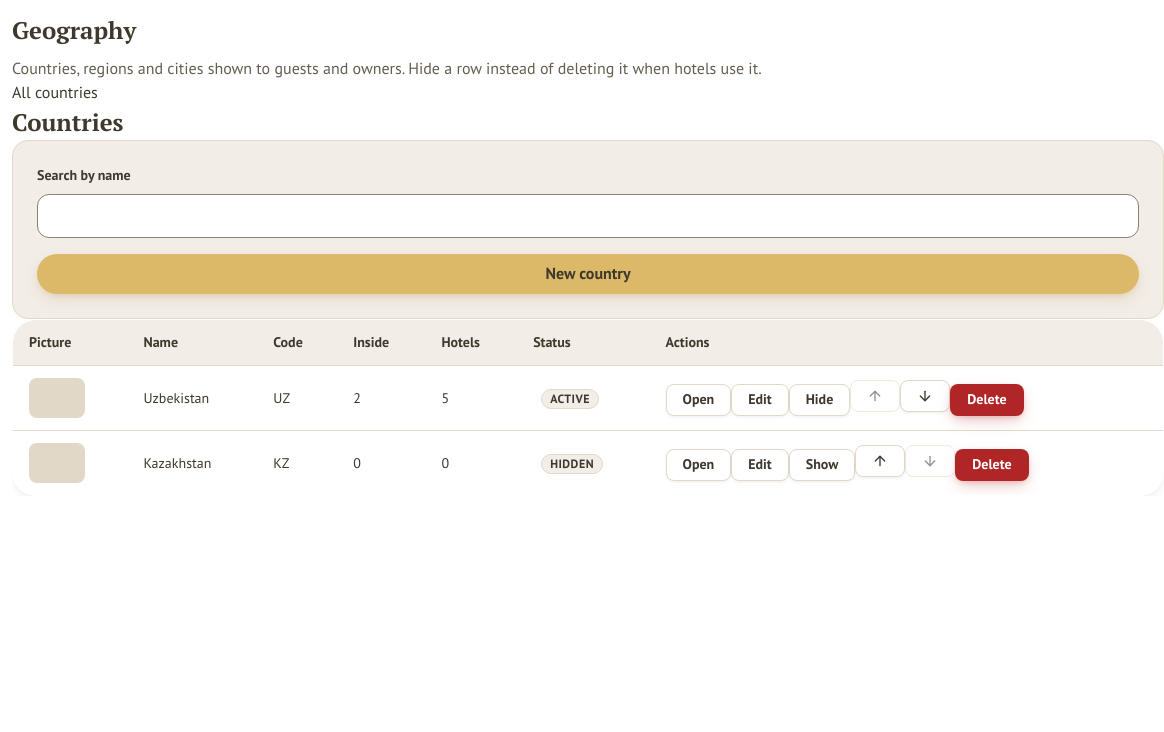
Test case: AdminGeography › does not reorder while a search is active
Check: the text "Uzbekistan" is shown, box x1=128 y1=366 x2=257 y2=430
Type "u" into the search field labelled "Search by name" at (588, 216), box x1=37 y1=194 x2=1139 y2=238
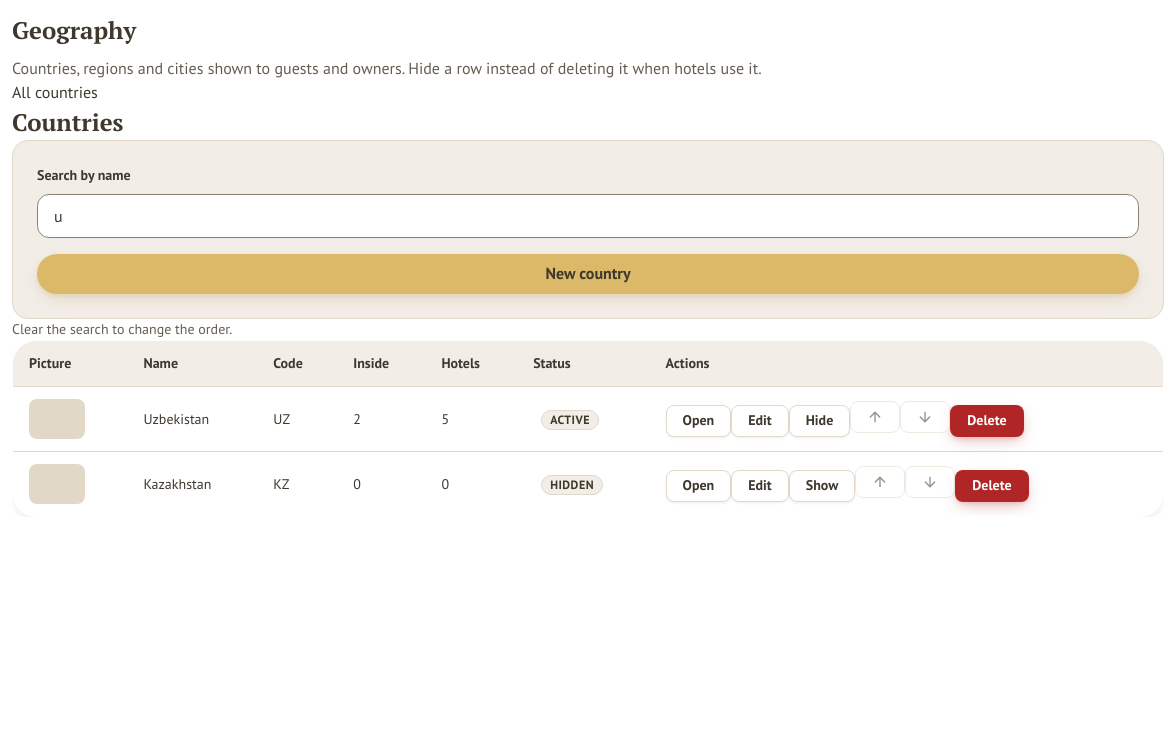
Check: the button named "Move Uzbekistan down" is disabled, box x1=900 y1=401 x2=950 y2=433
